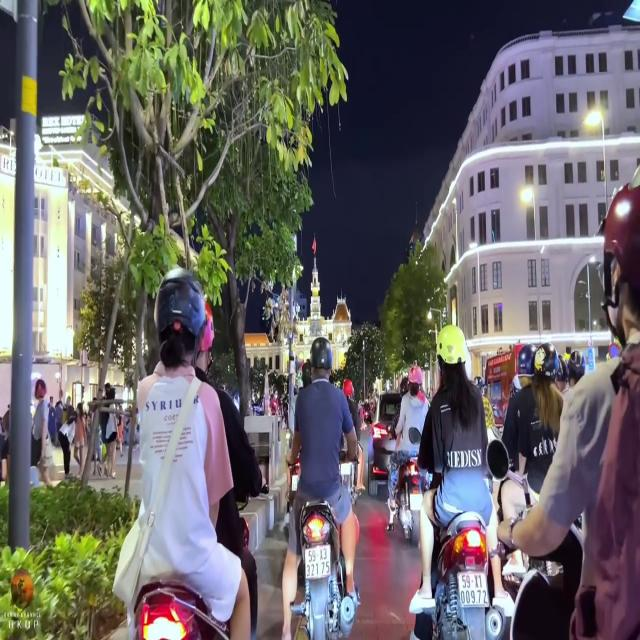bien_trang: (307, 544, 333, 582), (459, 573, 488, 606)
